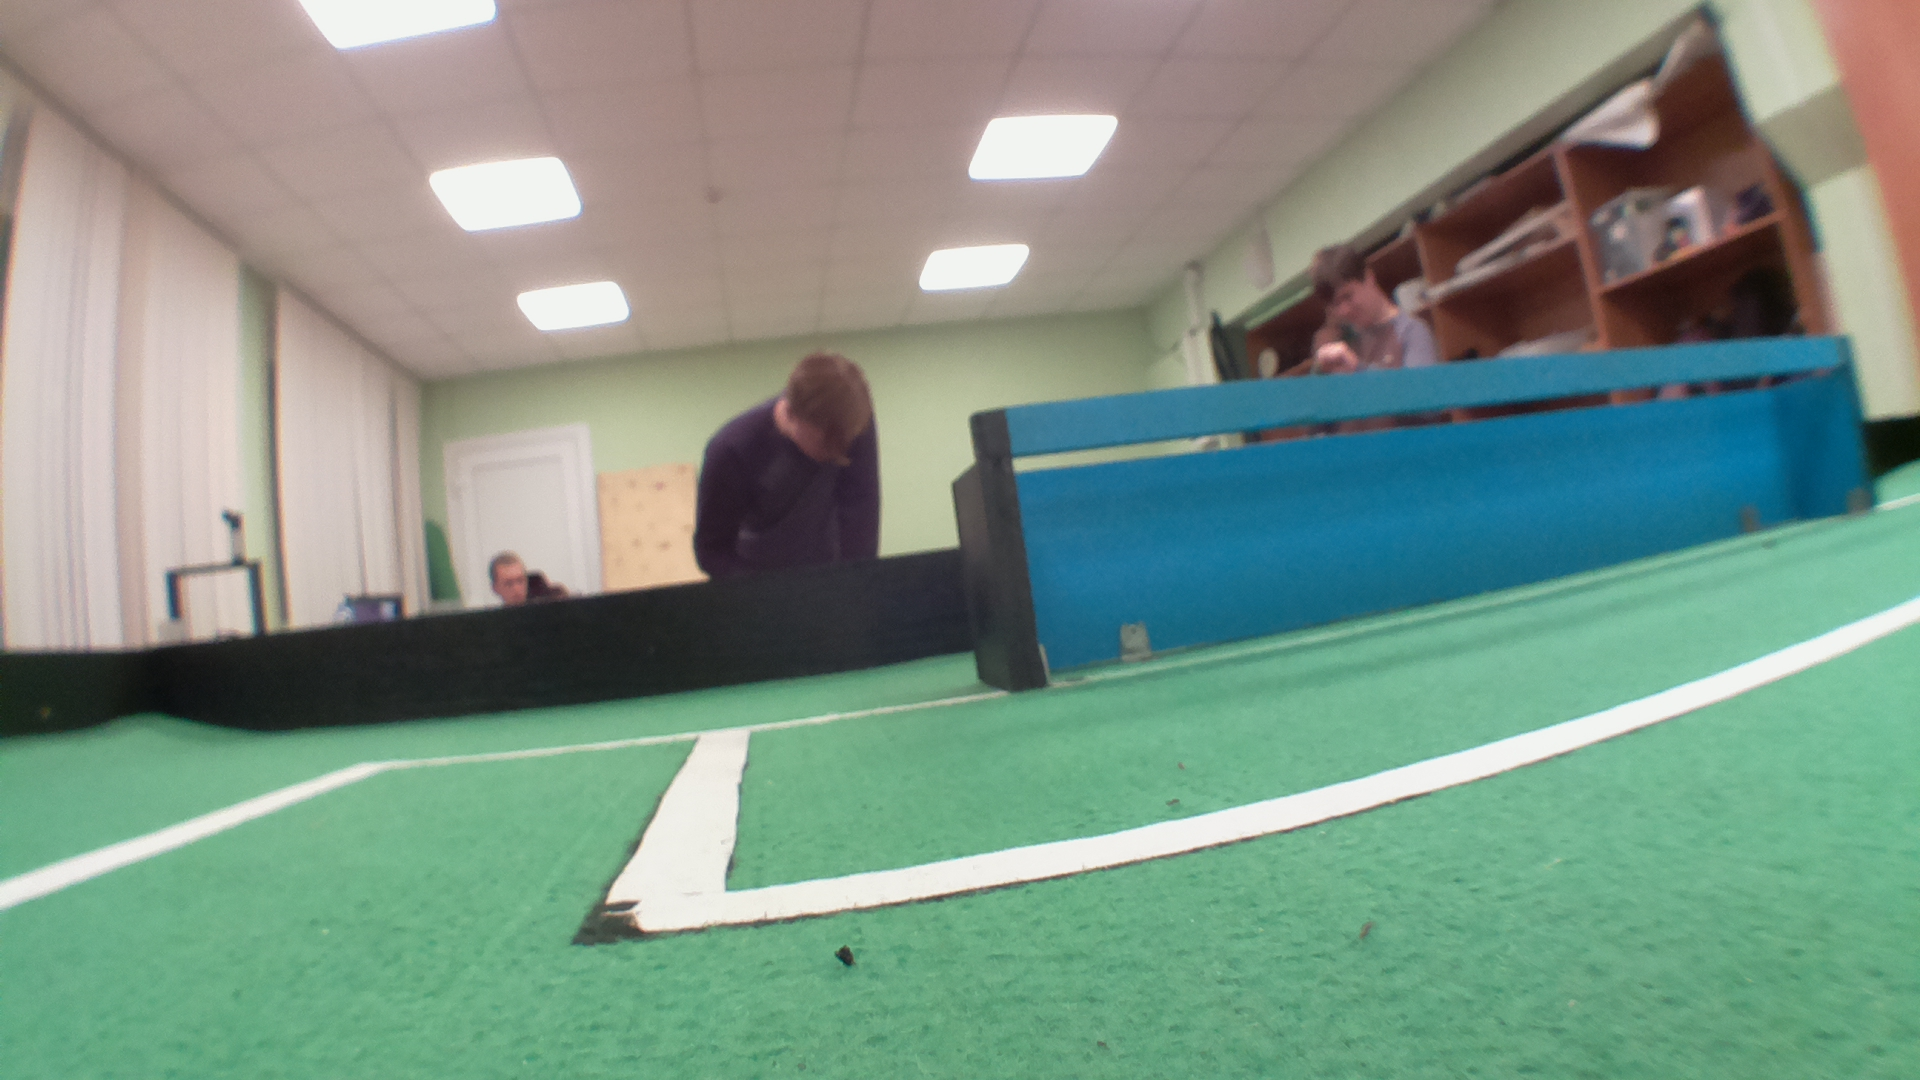BlueGoal: (1018, 328, 1855, 687)
